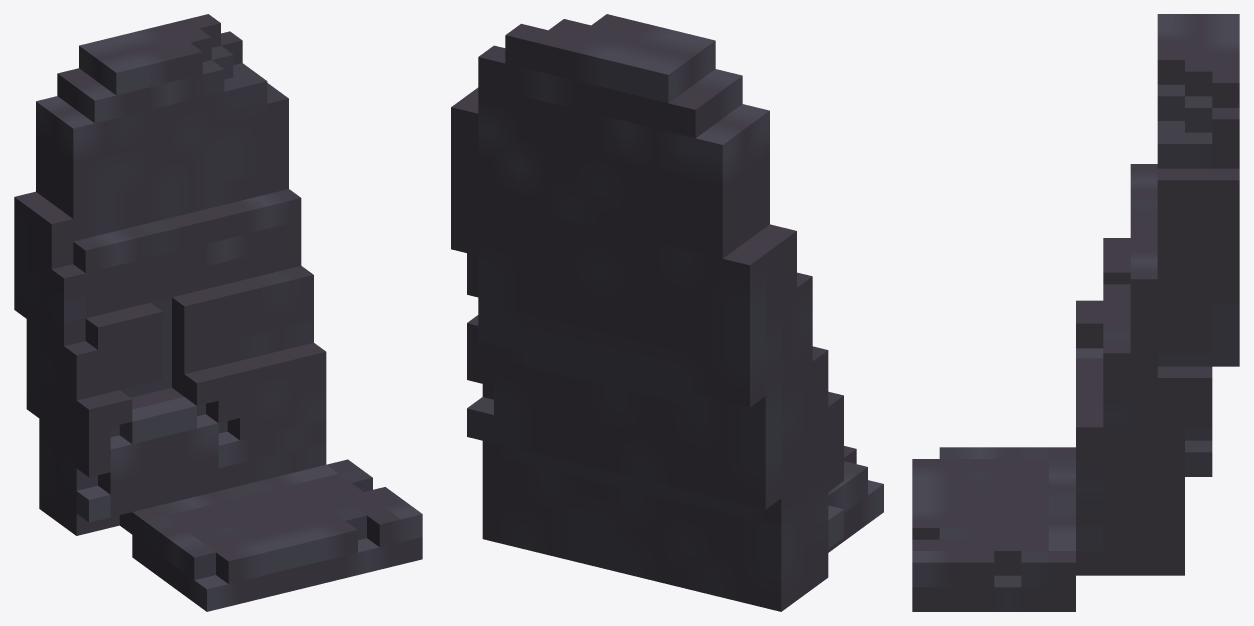
The model's file is Tomb-4.fbx.
The picture shows the model from 3 angles, left to right: view 1: azimuth 30°, elevation 25°; view 2: azimuth 150°, elevation 25°; view 3: azimuth 270°, elevation 25°; orthographic projection. The views are drawn at different scales.
Visible parts, largest first — view 1: Tomb-4; view 2: Tomb-4; view 3: Tomb-4.
Part boxes in pixels (x1,y1,x2,y2): Tomb-4: [14, 14, 422, 611]; Tomb-4: [451, 14, 883, 611]; Tomb-4: [912, 14, 1239, 611].
Size of the model in its own units: 60 by 100 by 60.
